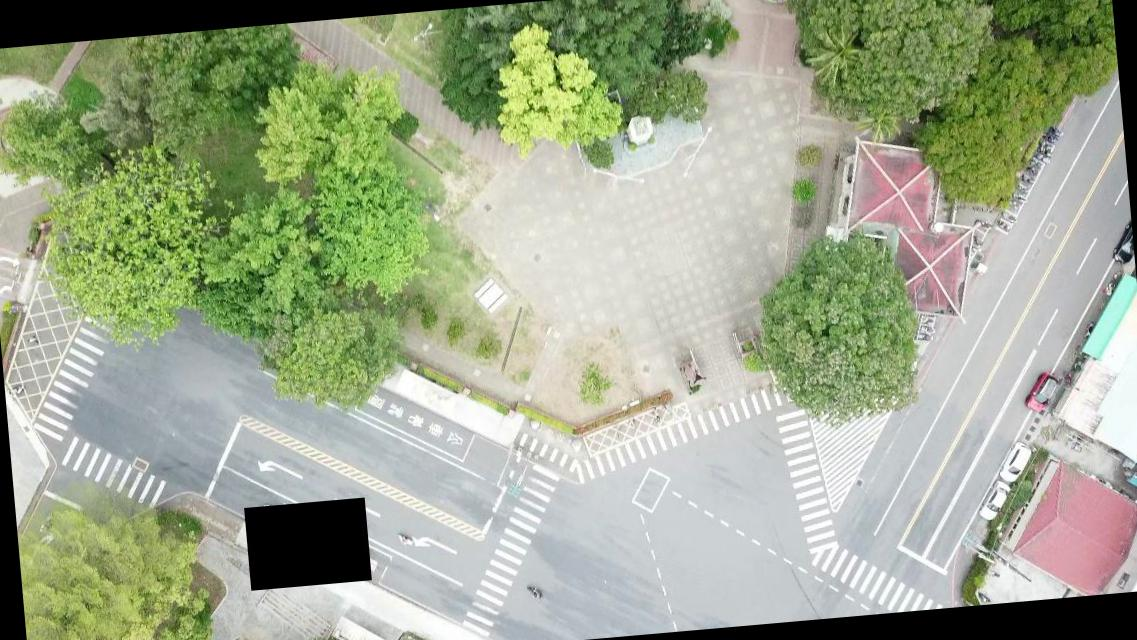vehicle: (1021, 370, 1060, 416), (997, 441, 1034, 485), (977, 480, 1012, 523), (1108, 220, 1134, 270)
